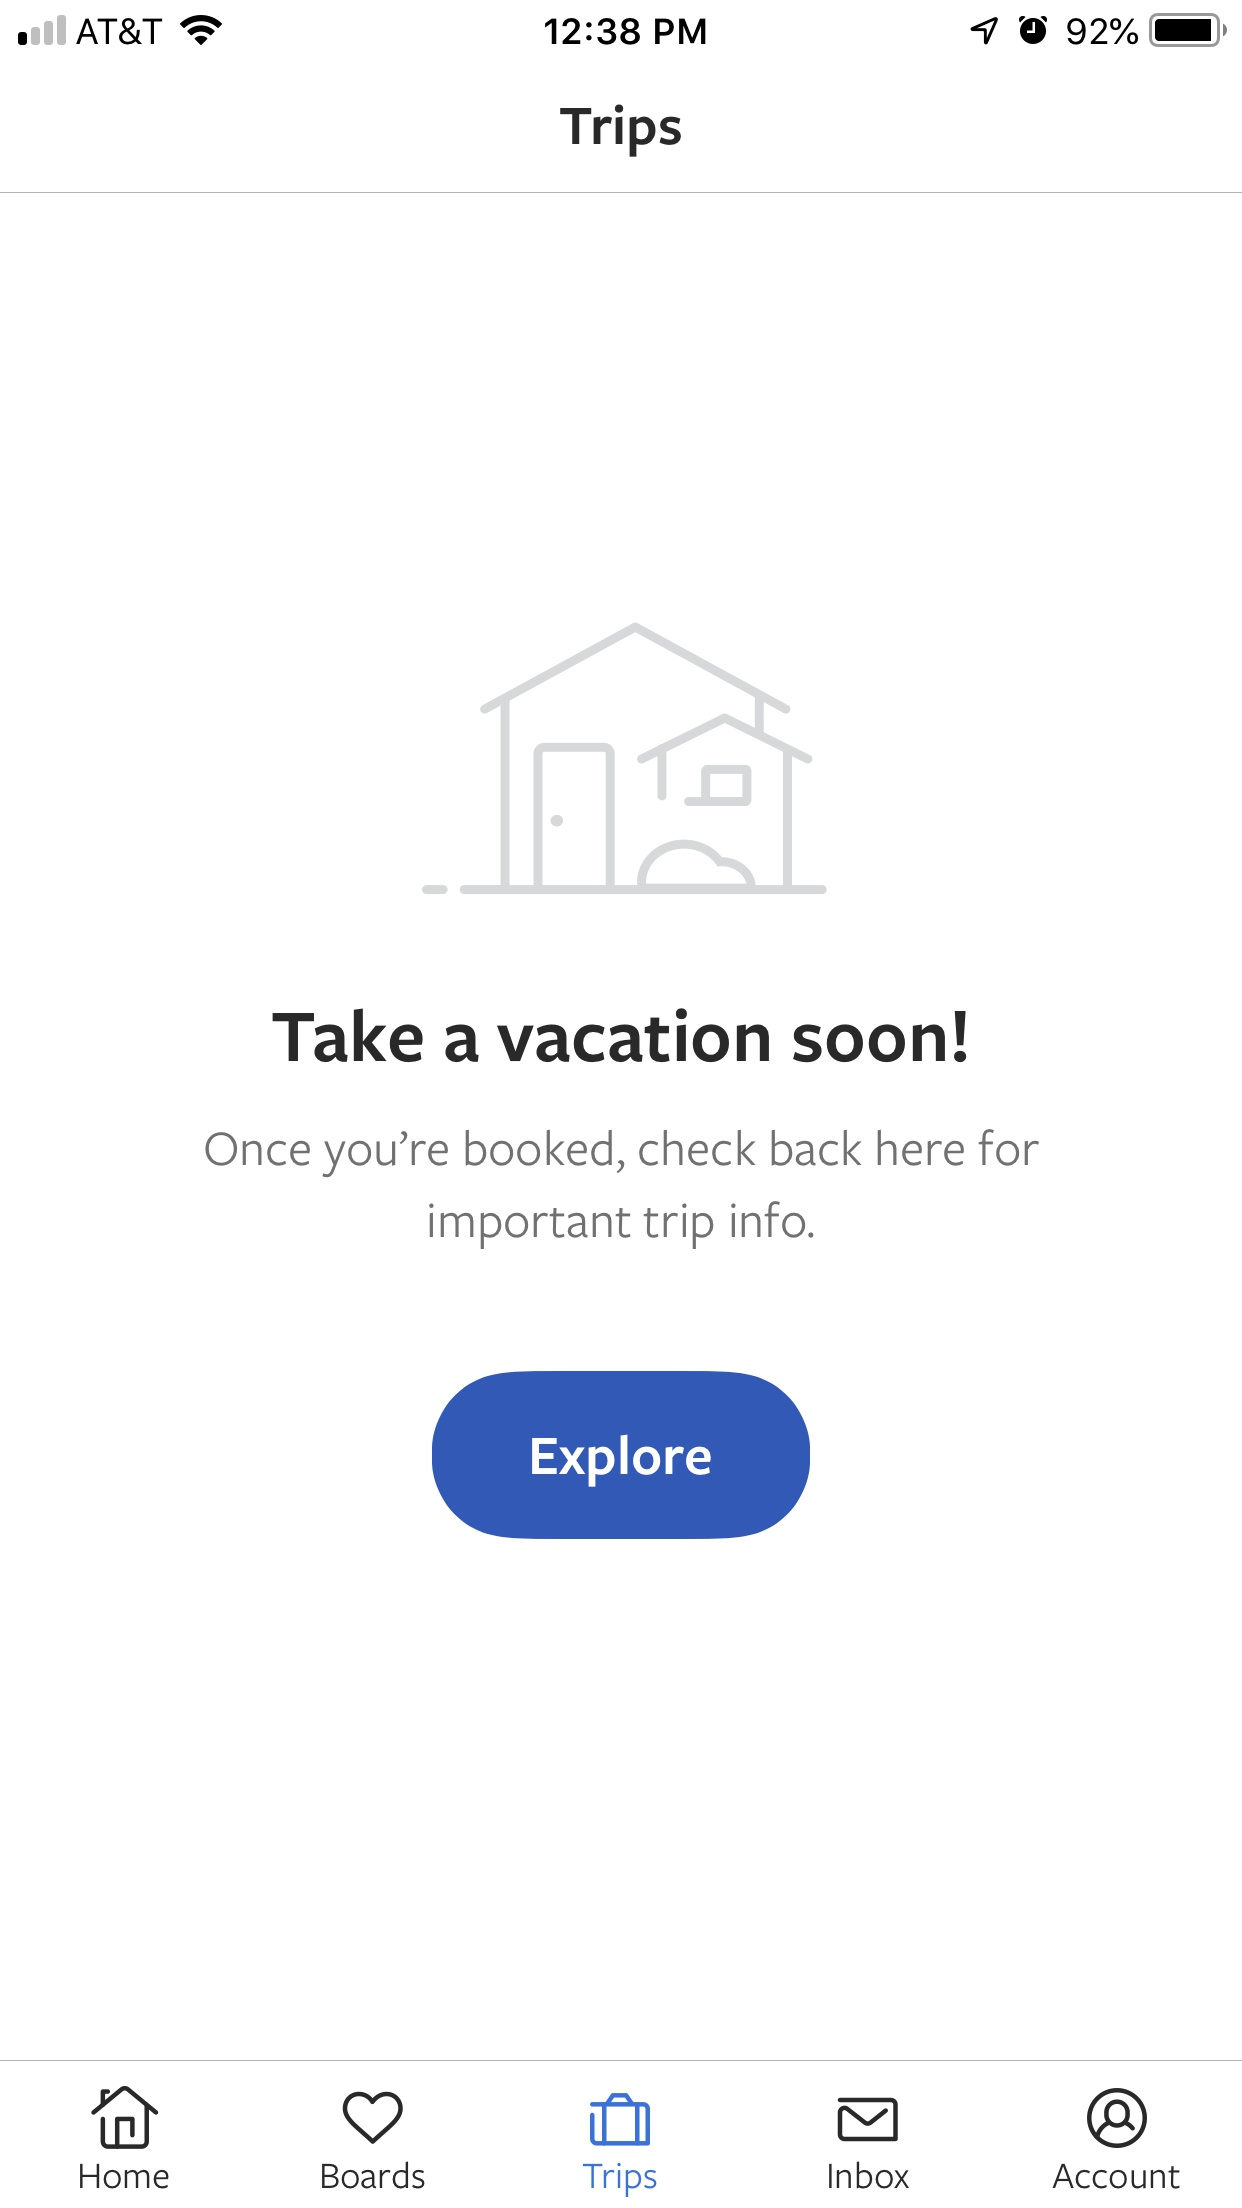Icon: (91, 2085, 161, 2150), (1087, 2087, 1148, 2149), (343, 2090, 403, 2144), (590, 2093, 651, 2147), (837, 2096, 899, 2141)
Image: (422, 622, 828, 896)
Text: (205, 1128, 1040, 1250), (271, 1008, 968, 1065), (560, 105, 682, 159), (1052, 2163, 1181, 2190), (321, 2159, 426, 2190), (582, 2163, 658, 2197), (80, 2163, 170, 2190), (828, 2159, 910, 2188)
TextButton: (432, 1371, 811, 1541)
UpperTaskBar: (2, 2, 1242, 49)
